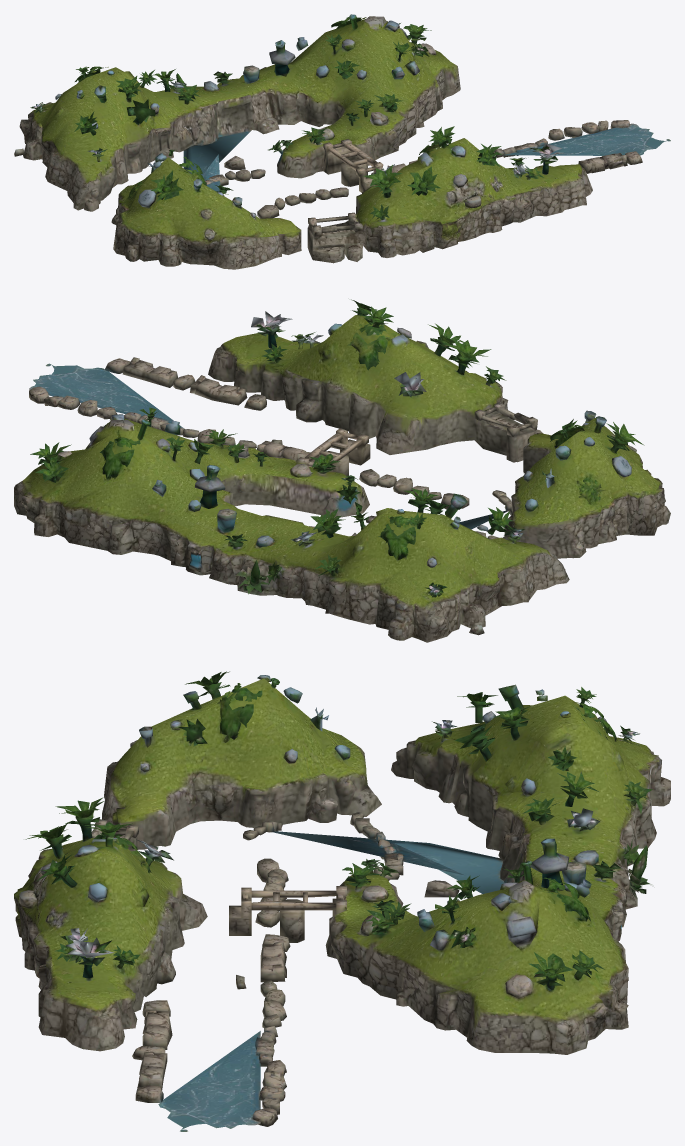
The model's file is VAL_Capital_Environment_River_Curve_Right.glb.
The picture shows the model from 3 angles, top to bottom: view 1: azimuth 30°, elevation 25°; view 2: azimuth 150°, elevation 25°; view 3: azimuth 270°, elevation 25°; orthographic projection. The views are drawn at different scales.
Parts seen in each view (by area): view 1: tripo_node_5b2abe19-5ec8-4c42-b1f6-968c9b5fe167; view 2: tripo_node_5b2abe19-5ec8-4c42-b1f6-968c9b5fe167; view 3: tripo_node_5b2abe19-5ec8-4c42-b1f6-968c9b5fe167.
Part boxes in pixels (bbox=[...]): tripo_node_5b2abe19-5ec8-4c42-b1f6-968c9b5fe167: bbox=[14, 14, 670, 269]; tripo_node_5b2abe19-5ec8-4c42-b1f6-968c9b5fe167: bbox=[14, 299, 670, 642]; tripo_node_5b2abe19-5ec8-4c42-b1f6-968c9b5fe167: bbox=[14, 671, 670, 1131].
Bounding box in the file's own units: 0.998 × 0.1738 × 0.7285.
1 material, 1 textured.
